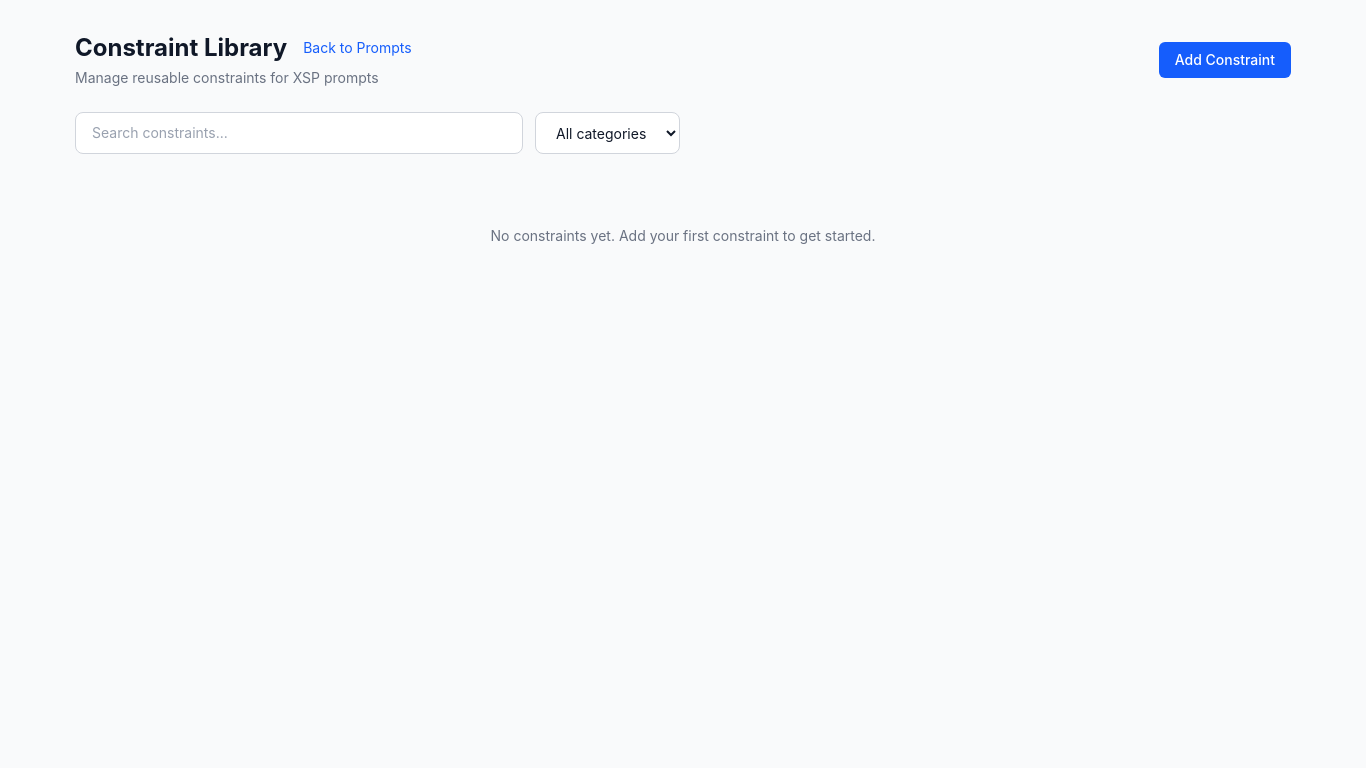
Test case: ConstraintLibrary › opens create modal when clicking Add Constraint
This screenshot has width=1366, height=768.
Click the button "Add Constraint".
click(1225, 60)  # box x1=1159 y1=42 x2=1291 y2=78
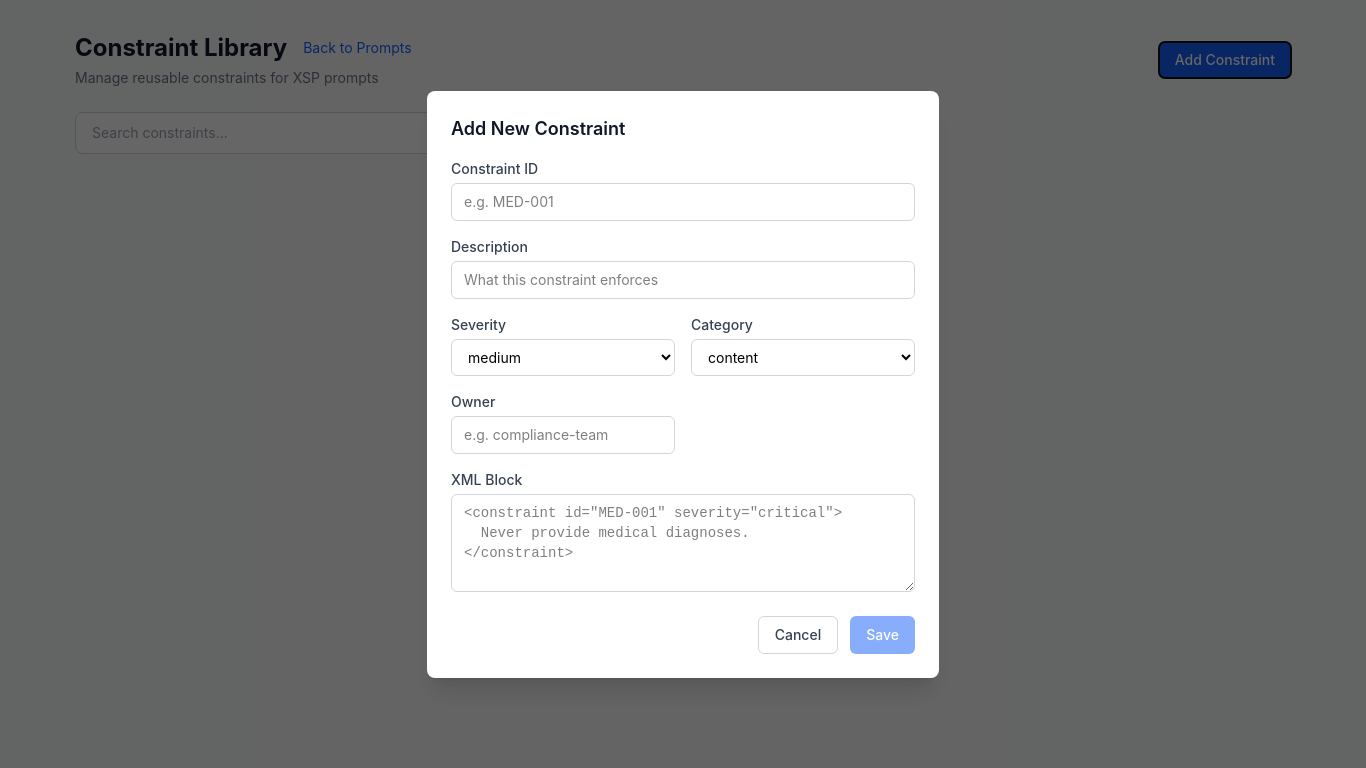
Expected: the element with test id "constraint-form-modal" is shown
Expected: the heading "Add New Constraint" is shown, x1=451 y1=118 x2=625 y2=138
Expected: the field labelled "Constraint ID" is enabled, x1=451 y1=182 x2=915 y2=220
